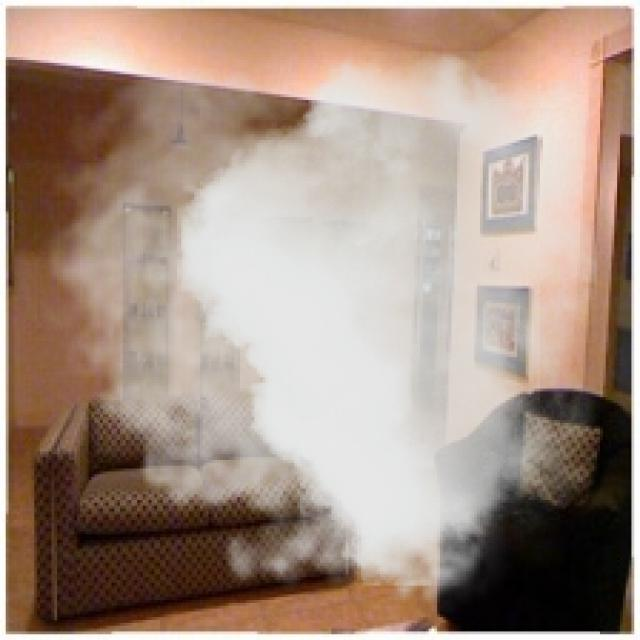smoke: (29, 51, 597, 620)
